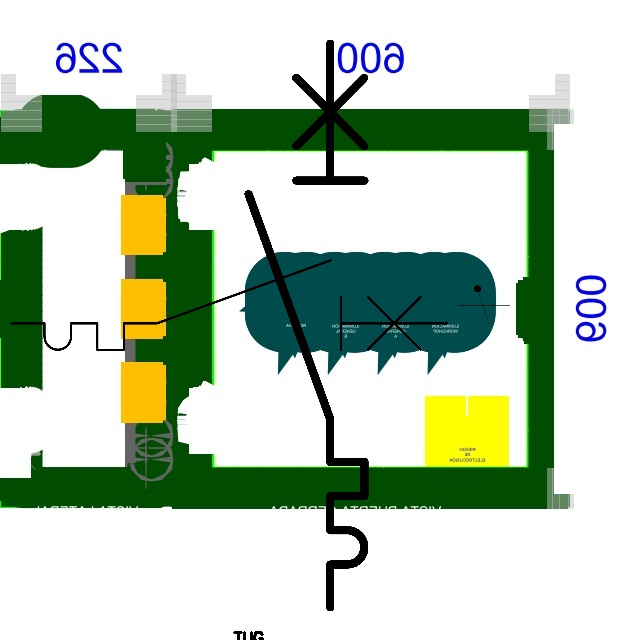interruptor_termomagnetico: (234, 29, 379, 622), (0, 249, 458, 361)
